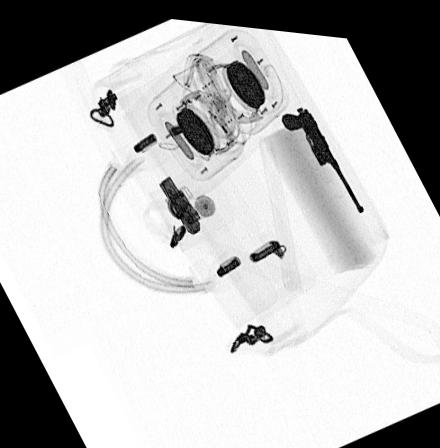Gun: (280, 99, 365, 204)
